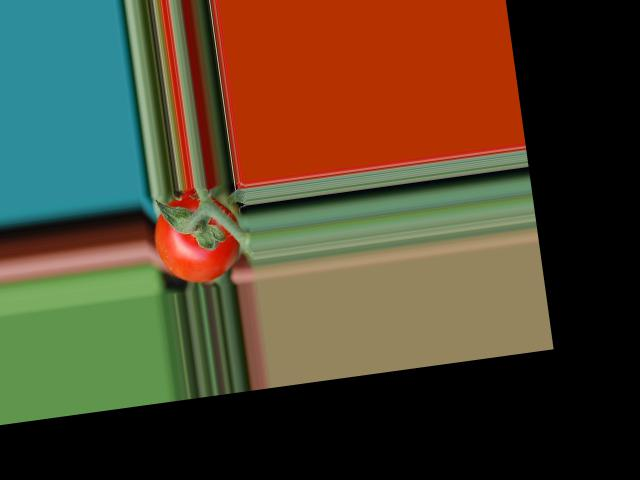tomato: (148, 184, 246, 287)
